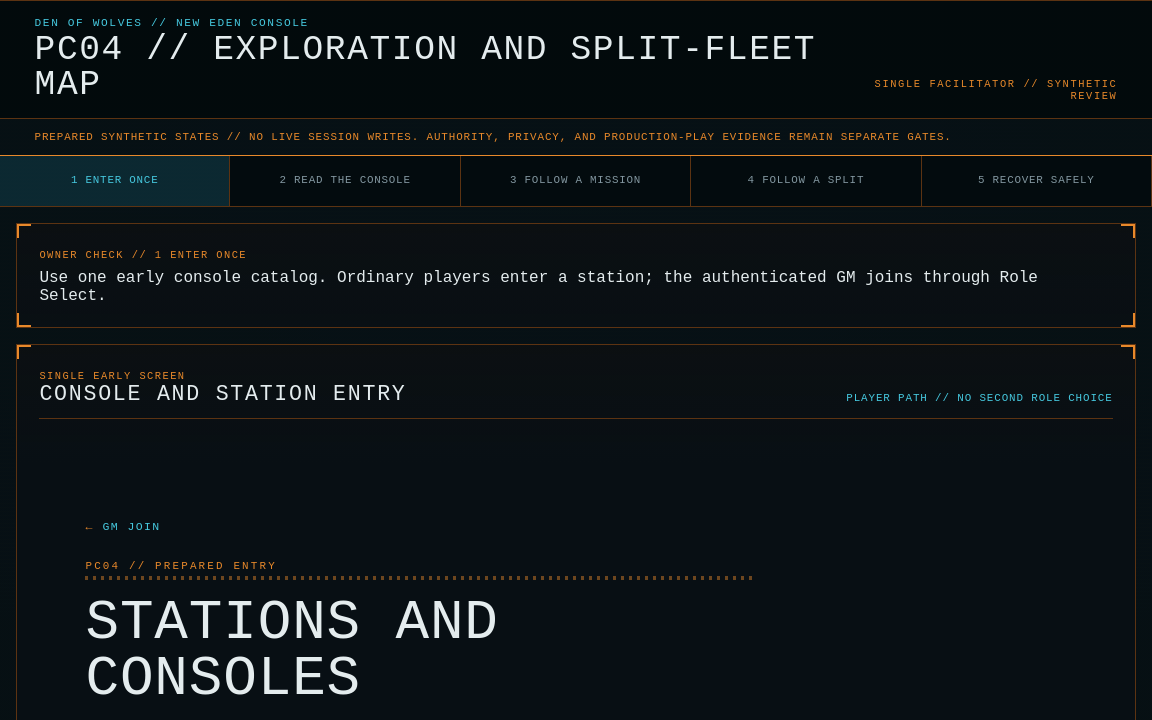
Test: shows the exact default alert and current console terminology
The width and height of the screenshot is (1152, 720).
Click the button "2 Read the console" at point(346, 181), box [230,156,461,206]
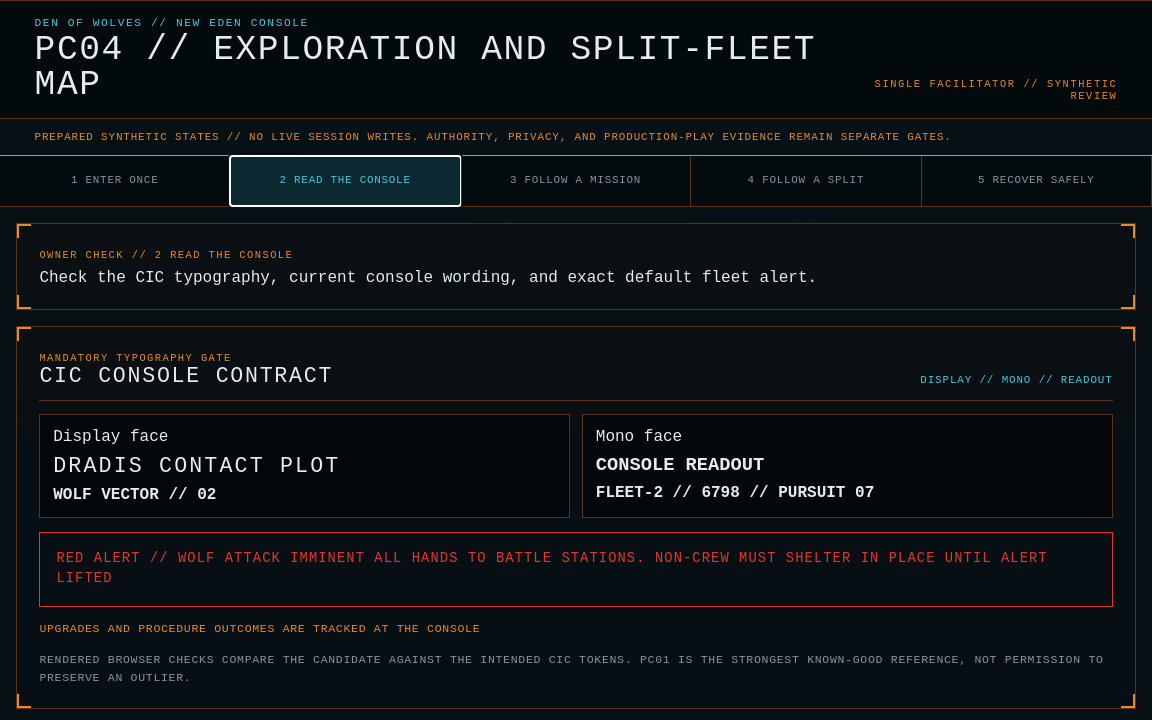
Expected: the element named "Prepared typography and copy check" does not show "TRACKED AT THE TABLE", [16,326,1136,709]
Now the element named "Prepared typography and copy check" shows "RED ALERT // WOLF ATTACK IMMINENT ALL HANDS TO BATTLE STATIONS. NON-CREW MUST SHELTER IN PLACE UNTIL ALERT LIFTED", box [56,550,1048,586]
Now the element named "Prepared typography and copy check" shows "UPGRADES AND PROCEDURE OUTCOMES ARE TRACKED AT THE CONSOLE", box [39,622,480,635]
